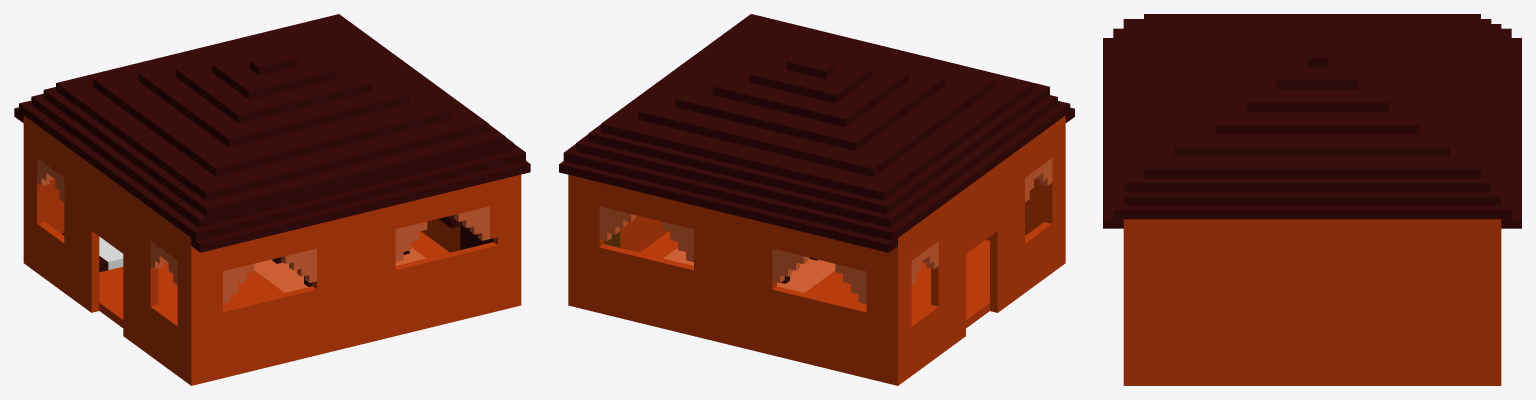
Rendered from house.obj.
3 renders of one model, left to right at view 1: azimuth 30°, elevation 25°; view 2: azimuth 150°, elevation 25°; view 3: azimuth 270°, elevation 25°, orthographic. The views are drawn at different scales.
Bounding box in the file's own units: 4.2 × 2.7 × 4.1.
Materials: 1 (1 with a texture image).
